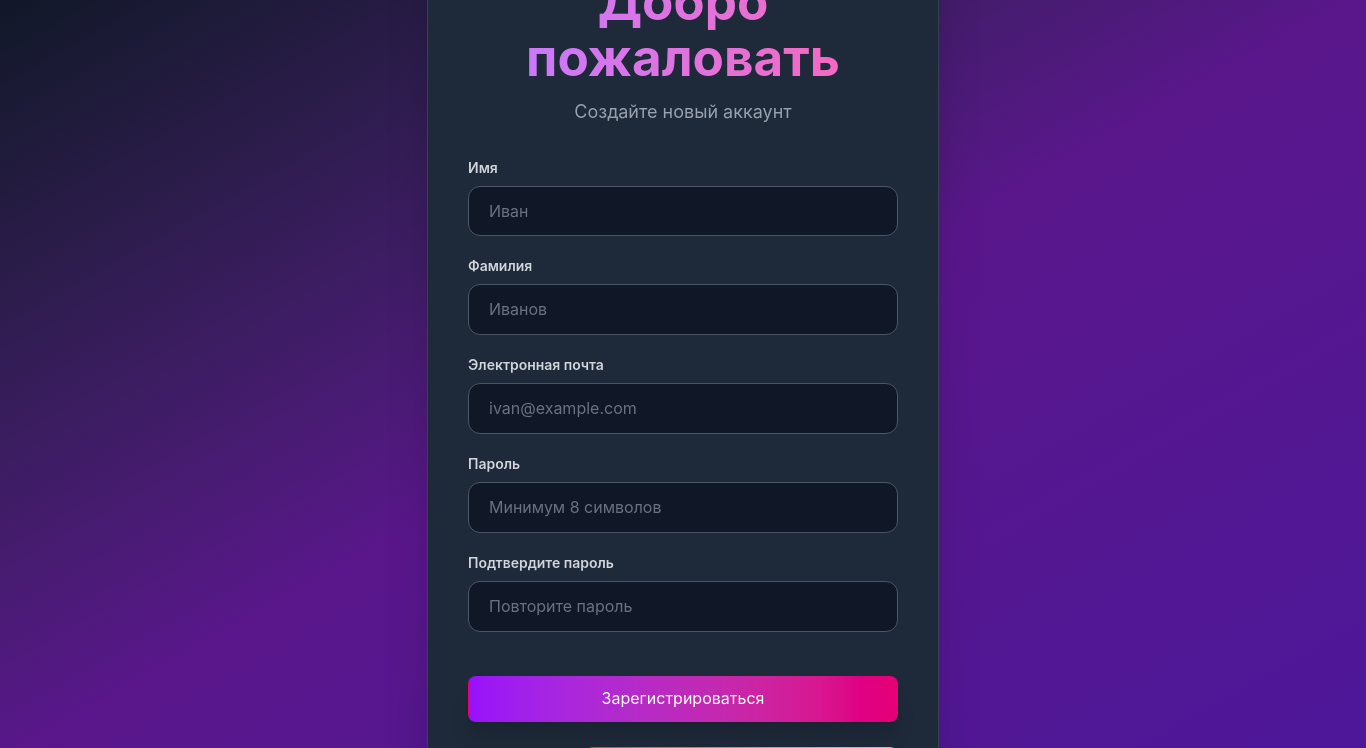
Register Page Coverage › успешная регистрация: сохранение токена и редирект
In the field with placeholder "Иван": (683, 211) [468, 186, 898, 236], type "Ivan"
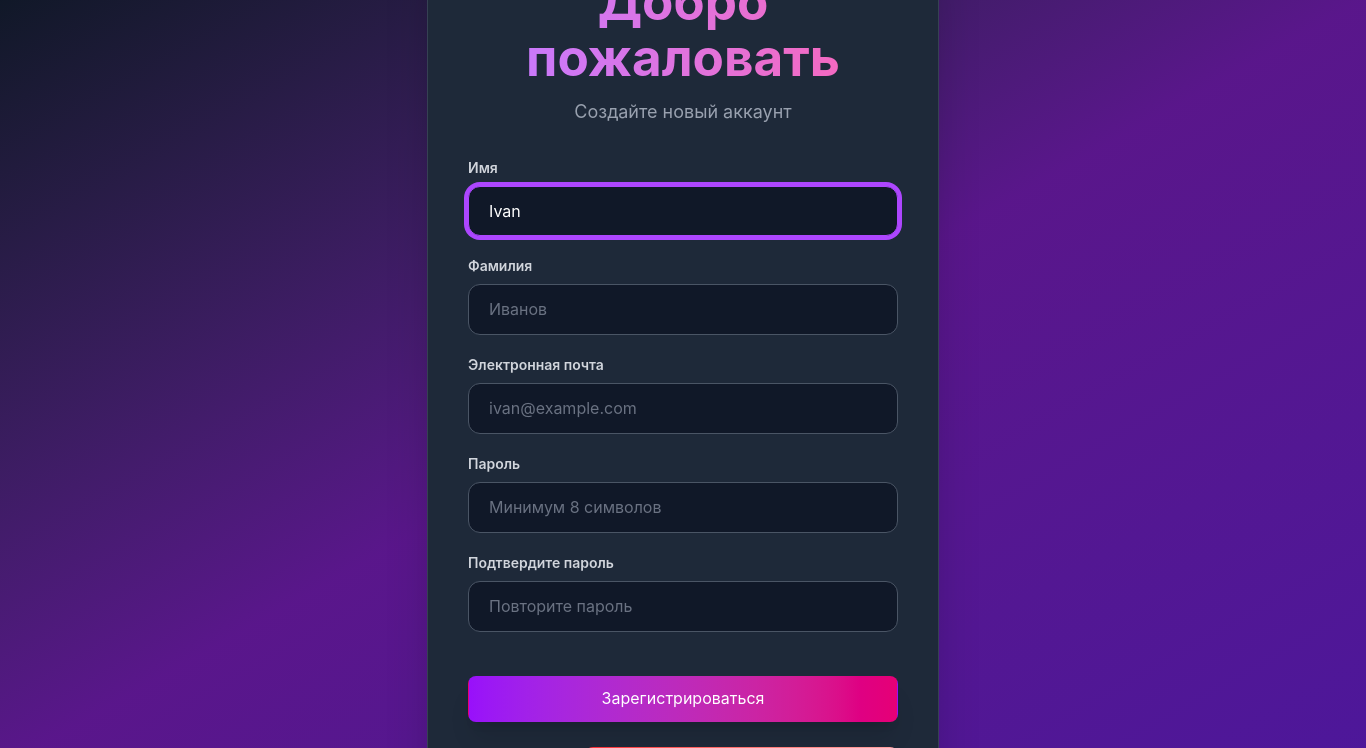
In the field with placeholder "Иванов": (683, 310) [468, 284, 898, 335], type "Ivanov"
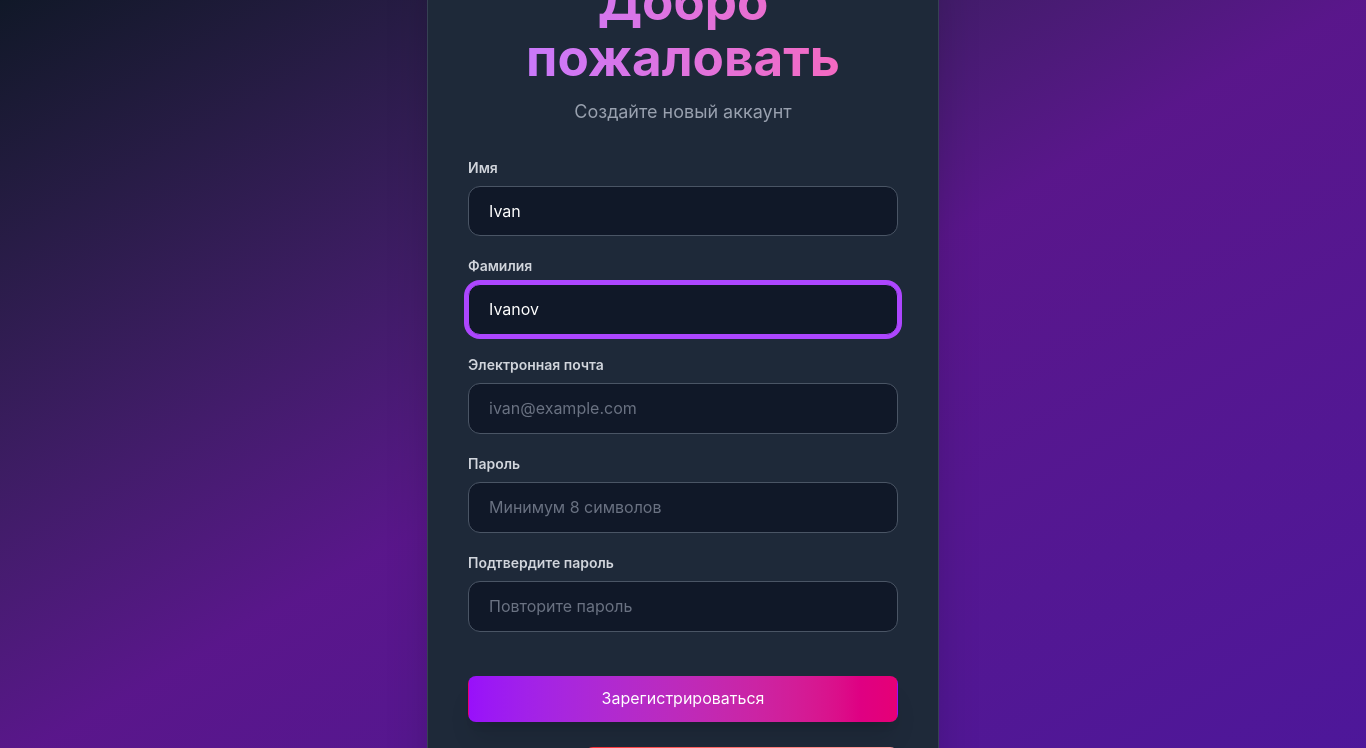
In the field with placeholder "ivan@example.com": (683, 408) [468, 383, 898, 434], type "test@mail.com"
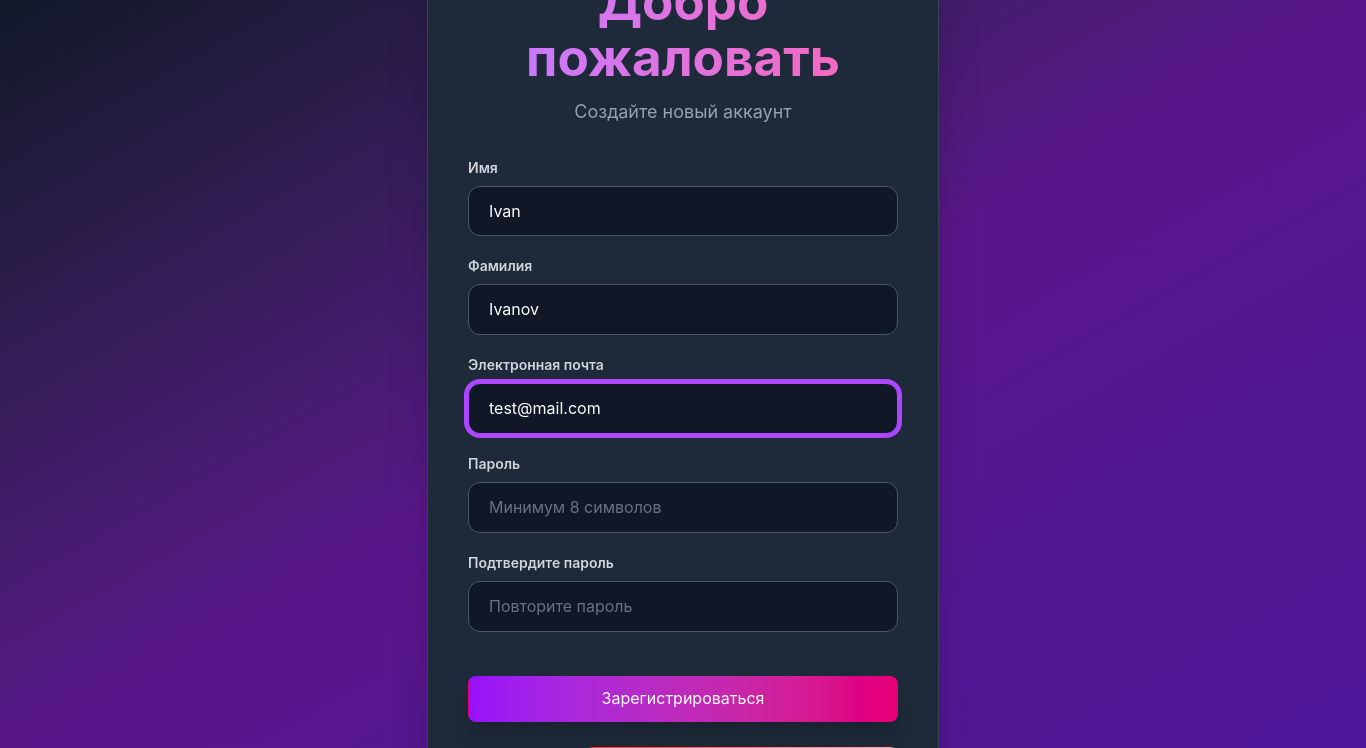
In the password field with placeholder "Минимум 8 символов": (683, 507) [468, 482, 898, 533], type "Password123"
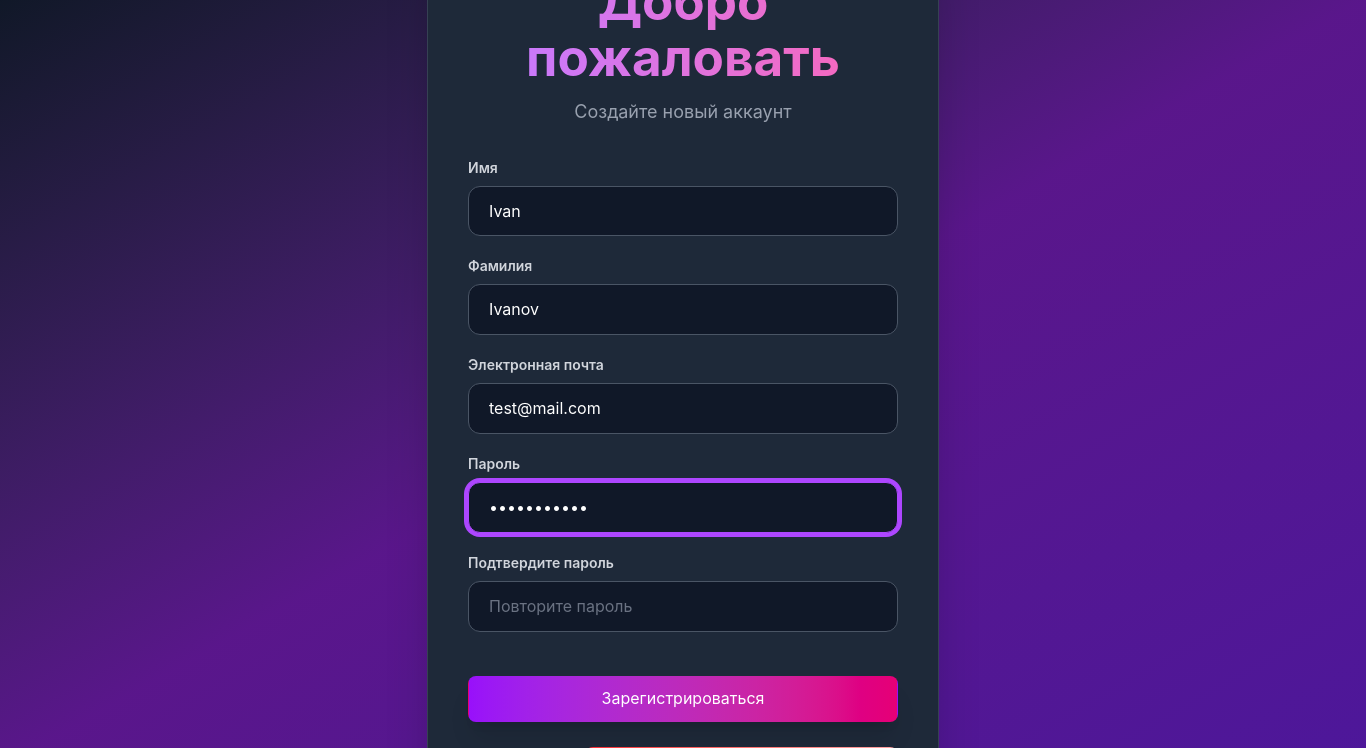
In the password field with placeholder "Повторите пароль": (683, 606) [468, 581, 898, 632], type "Password123"
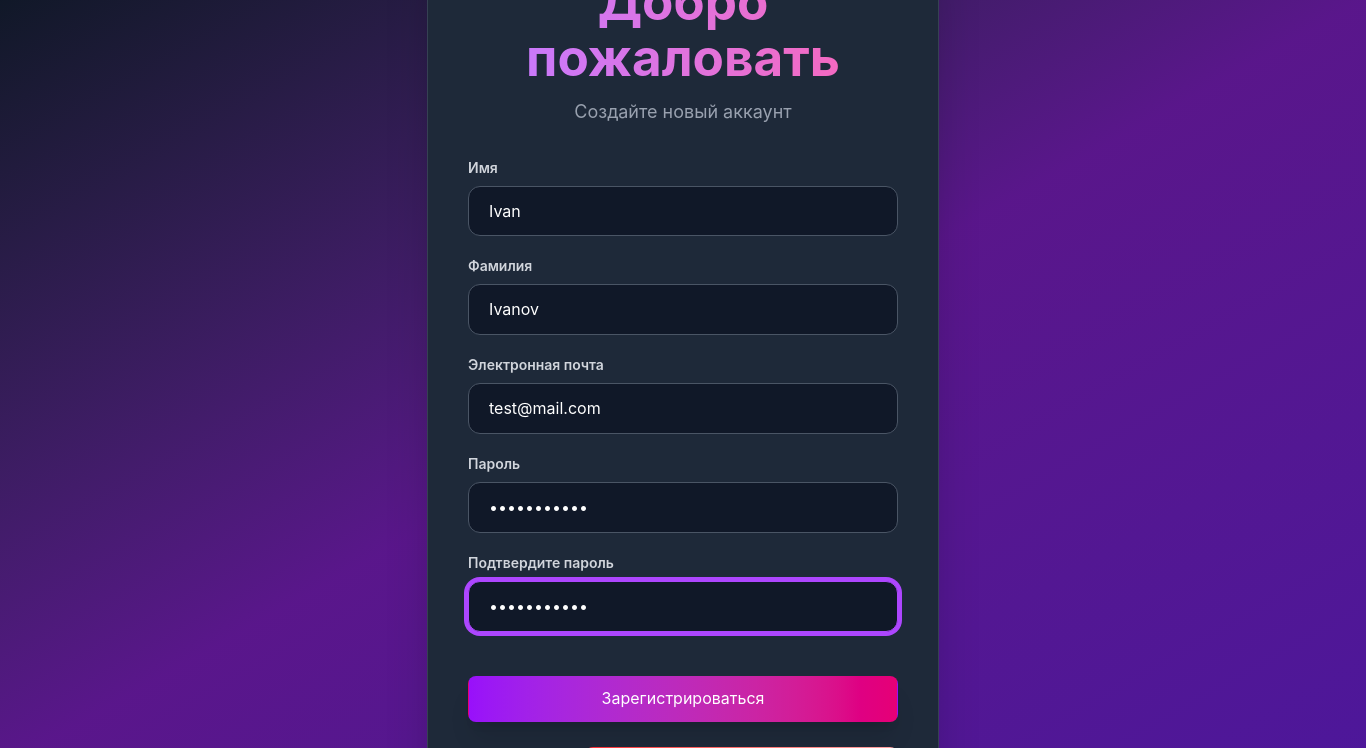
Click the button "Зарегистрироваться": click(683, 698) [468, 676, 898, 722]
Wait 1600 ms
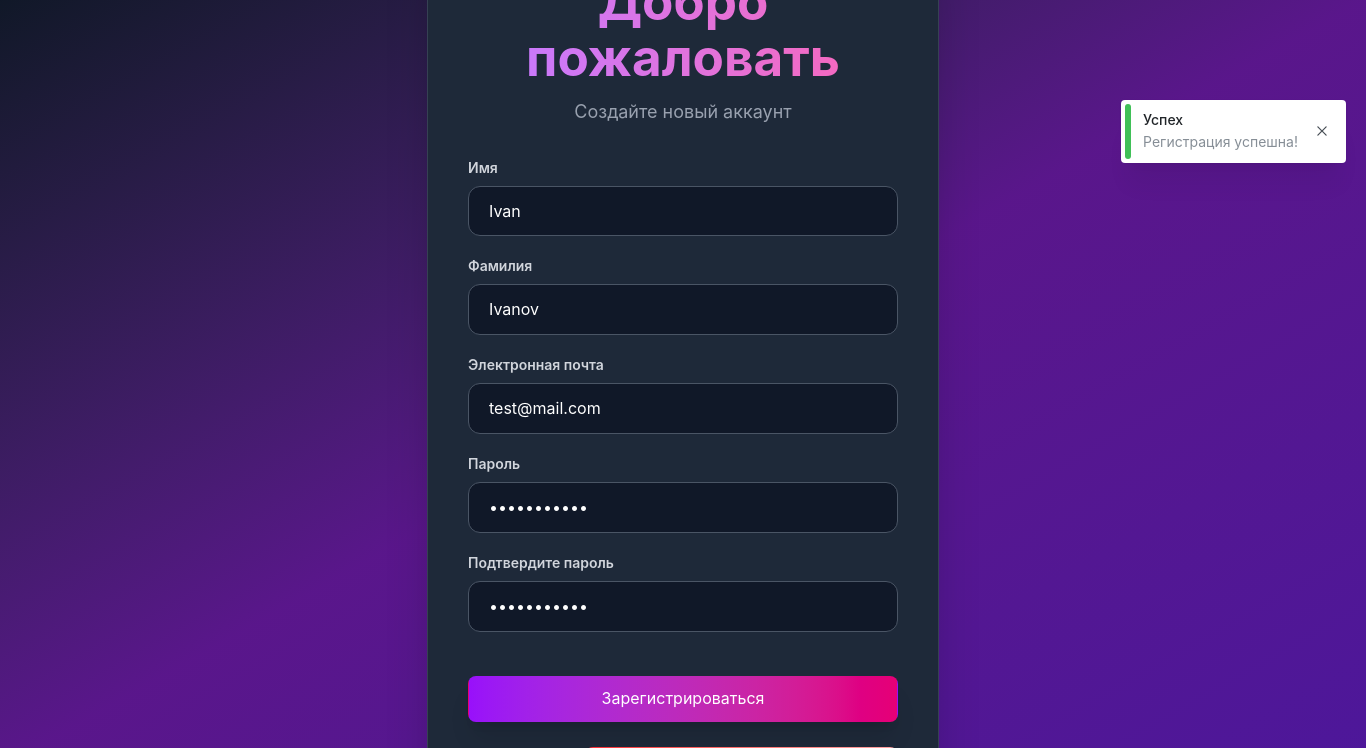
Check: the text "Регистрация успешна!" is shown, box [1143, 132, 1298, 153]
